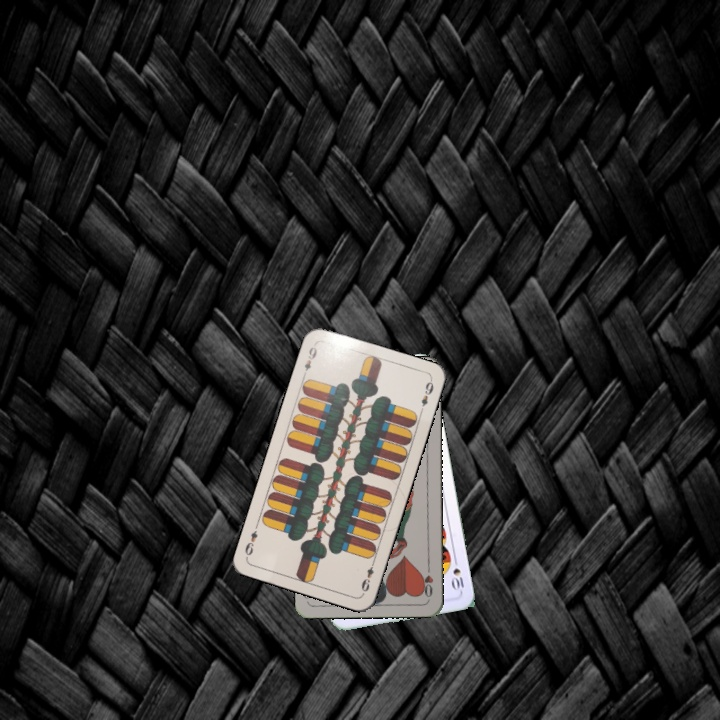E9: (357, 557, 377, 596), (299, 343, 319, 380)
HO: (419, 560, 436, 600)
S10: (448, 553, 466, 594)
